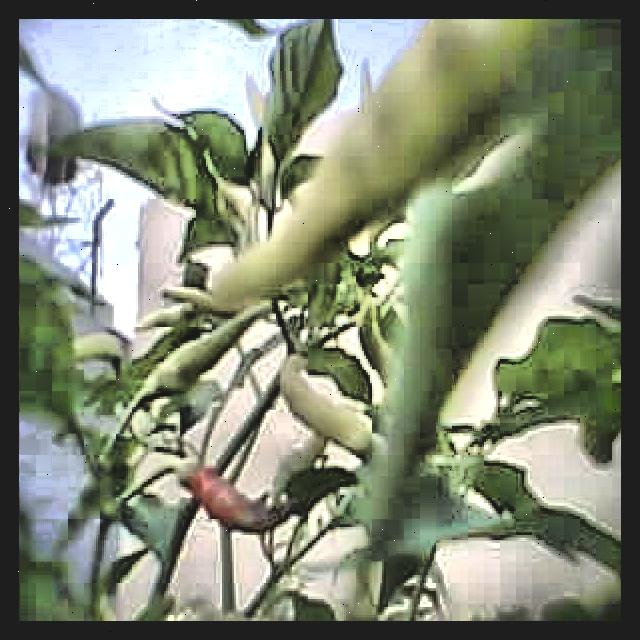Cabai: (170, 443, 299, 564)
